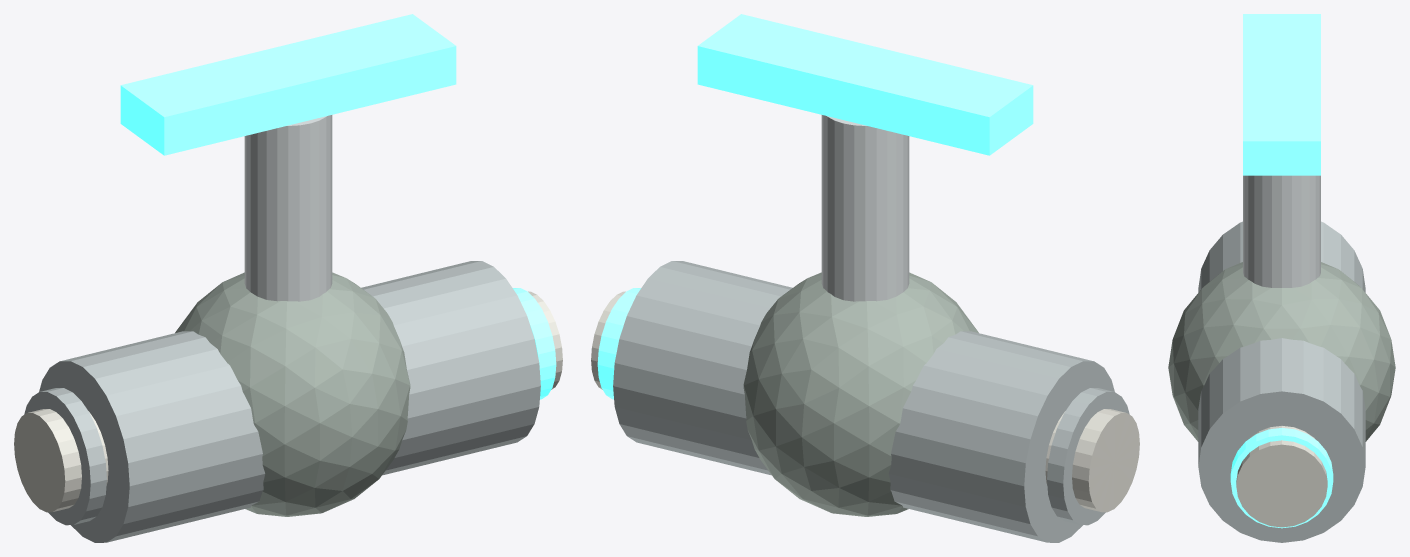
File: s7-i04-ball.glb
3 renders of one model, left to right at view 1: azimuth 30°, elevation 25°; view 2: azimuth 150°, elevation 25°; view 3: azimuth 270°, elevation 25°, orthographic. The views are drawn at different scales.
Parts seen in each view (by area): view 1: 000_valve_pressure_body, 007_valve_rotor, 009_manual_valve_handle, 008_valve_vertical_spindle, 001_valve_side_sealing_socket, 003_valve_side_locking_collar, 005_valve_side_cyan_snap_seal, 004_valve_side_sealing_socket; view 2: 000_valve_pressure_body, 007_valve_rotor, 009_manual_valve_handle, 008_valve_vertical_spindle, 001_valve_side_sealing_socket, 003_valve_side_locking_collar, 005_valve_side_cyan_snap_seal, 004_valve_side_sealing_socket; view 3: 000_valve_pressure_body, 007_valve_rotor, 009_manual_valve_handle, 008_valve_vertical_spindle, 004_valve_side_sealing_socket, 005_valve_side_cyan_snap_seal.
Part boxes in pixels (<box>): 000_valve_pressure_body: <box>39,261,540,542</box>; 007_valve_rotor: <box>175,272,410,516</box>; 009_manual_valve_handle: <box>120,14,456,155</box>; 008_valve_vertical_spindle: <box>244,115,332,301</box>; 001_valve_side_sealing_socket: <box>14,409,108,512</box>; 003_valve_side_locking_collar: <box>24,388,106,525</box>; 005_valve_side_cyan_snap_seal: <box>513,288,556,399</box>; 004_valve_side_sealing_socket: <box>528,291,562,389</box>; 000_valve_pressure_body: <box>613,261,1114,542</box>; 007_valve_rotor: <box>743,272,978,516</box>; 009_manual_valve_handle: <box>697,14,1033,155</box>; 008_valve_vertical_spindle: <box>821,115,909,301</box>; 001_valve_side_sealing_socket: <box>1045,409,1139,512</box>; 003_valve_side_locking_collar: <box>1047,388,1129,525</box>; 005_valve_side_cyan_snap_seal: <box>597,288,640,399</box>; 004_valve_side_sealing_socket: <box>591,291,625,389</box>; 000_valve_pressure_body: <box>1198,221,1365,542</box>; 007_valve_rotor: <box>1168,262,1395,441</box>; 009_manual_valve_handle: <box>1243,14,1320,175</box>; 008_valve_vertical_spindle: <box>1243,175,1320,287</box>; 004_valve_side_sealing_socket: <box>1236,426,1327,527</box>; 005_valve_side_cyan_snap_seal: <box>1230,428,1333,528</box>.
Size of the model in its own units: 0.46 by 0.389 by 0.204.
